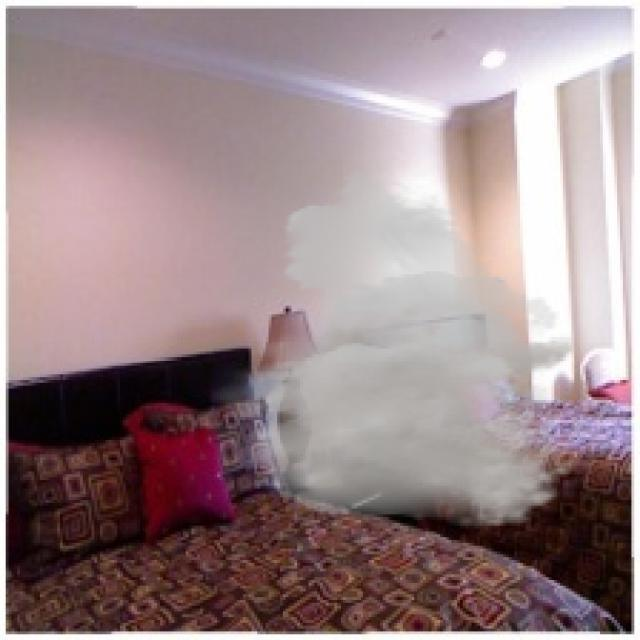Smoke: (202, 157, 578, 529)
